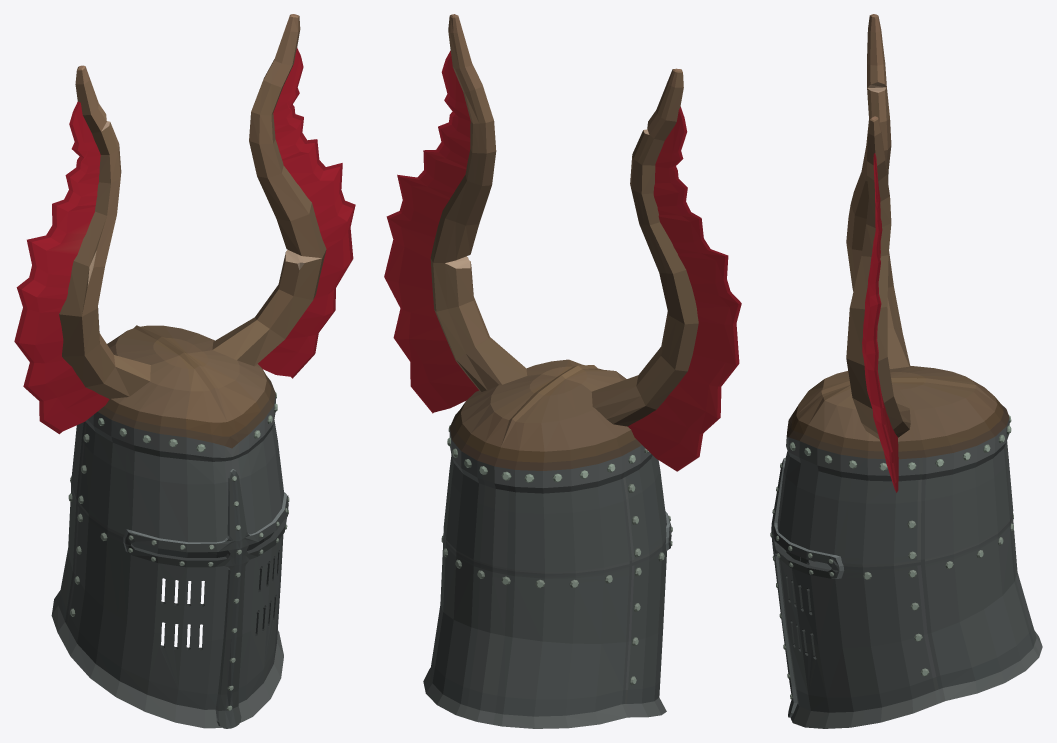
File: bucketHelmetWingsFemale.glb
The picture shows the model from 3 angles, left to right: view 1: azimuth 30°, elevation 25°; view 2: azimuth 150°, elevation 25°; view 3: azimuth 270°, elevation 25°; orthographic projection. The views are drawn at different scales.
Visible parts, largest first — view 1: bucketHelmetWings; view 2: bucketHelmetWings; view 3: bucketHelmetWings.
Part boxes in pixels (box(x1,y1,x2,y2)): bucketHelmetWings: box(14, 14, 355, 728); bucketHelmetWings: box(384, 14, 741, 728); bucketHelmetWings: box(770, 14, 1042, 728).
Bounding box in the file's own units: 0.4932 × 0.9114 × 0.3465.
